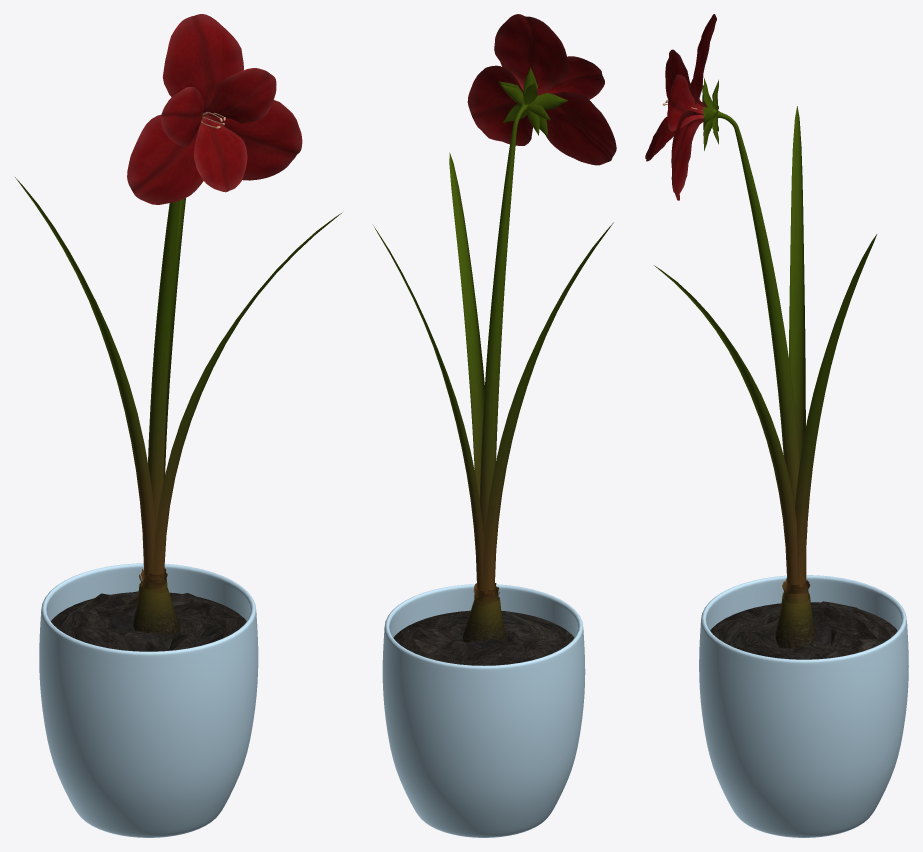
File: red.obj
The picture shows the model from 3 angles, left to right: view 1: azimuth 30°, elevation 25°; view 2: azimuth 150°, elevation 25°; view 3: azimuth 270°, elevation 25°; orthographic projection. The views are drawn at different scales.
Parts seen in each view (by area): view 1: cgaxis_plants_06_05, cgaxis_plants_06_01, cgaxis_plants_06_02, cgaxis_plants_06_04, cgaxis_plants_06_03; view 2: cgaxis_plants_06_05, cgaxis_plants_06_02, cgaxis_plants_06_01, cgaxis_plants_06_04, cgaxis_plants_06_03; view 3: cgaxis_plants_06_05, cgaxis_plants_06_02, cgaxis_plants_06_04, cgaxis_plants_06_01, cgaxis_plants_06_03.
Boxes of the visible parts, x1,y1,x2,y2 form: cgaxis_plants_06_05: (39,563,258,837); cgaxis_plants_06_01: (127,14,302,204); cgaxis_plants_06_02: (15,115,342,592); cgaxis_plants_06_04: (51,591,246,651); cgaxis_plants_06_03: (133,583,180,634); cgaxis_plants_06_05: (382,584,585,837); cgaxis_plants_06_02: (373,67,613,605); cgaxis_plants_06_01: (467,14,616,165); cgaxis_plants_06_04: (393,610,574,665); cgaxis_plants_06_03: (463,597,505,642); cgaxis_plants_06_05: (699,575,908,837); cgaxis_plants_06_02: (654,78,876,603); cgaxis_plants_06_04: (710,601,897,659); cgaxis_plants_06_01: (645,14,716,200); cgaxis_plants_06_03: (775,593,815,648).
Size of the model in its own units: 1.57 by 4.89 by 1.47.
5 materials, 5 textured.
